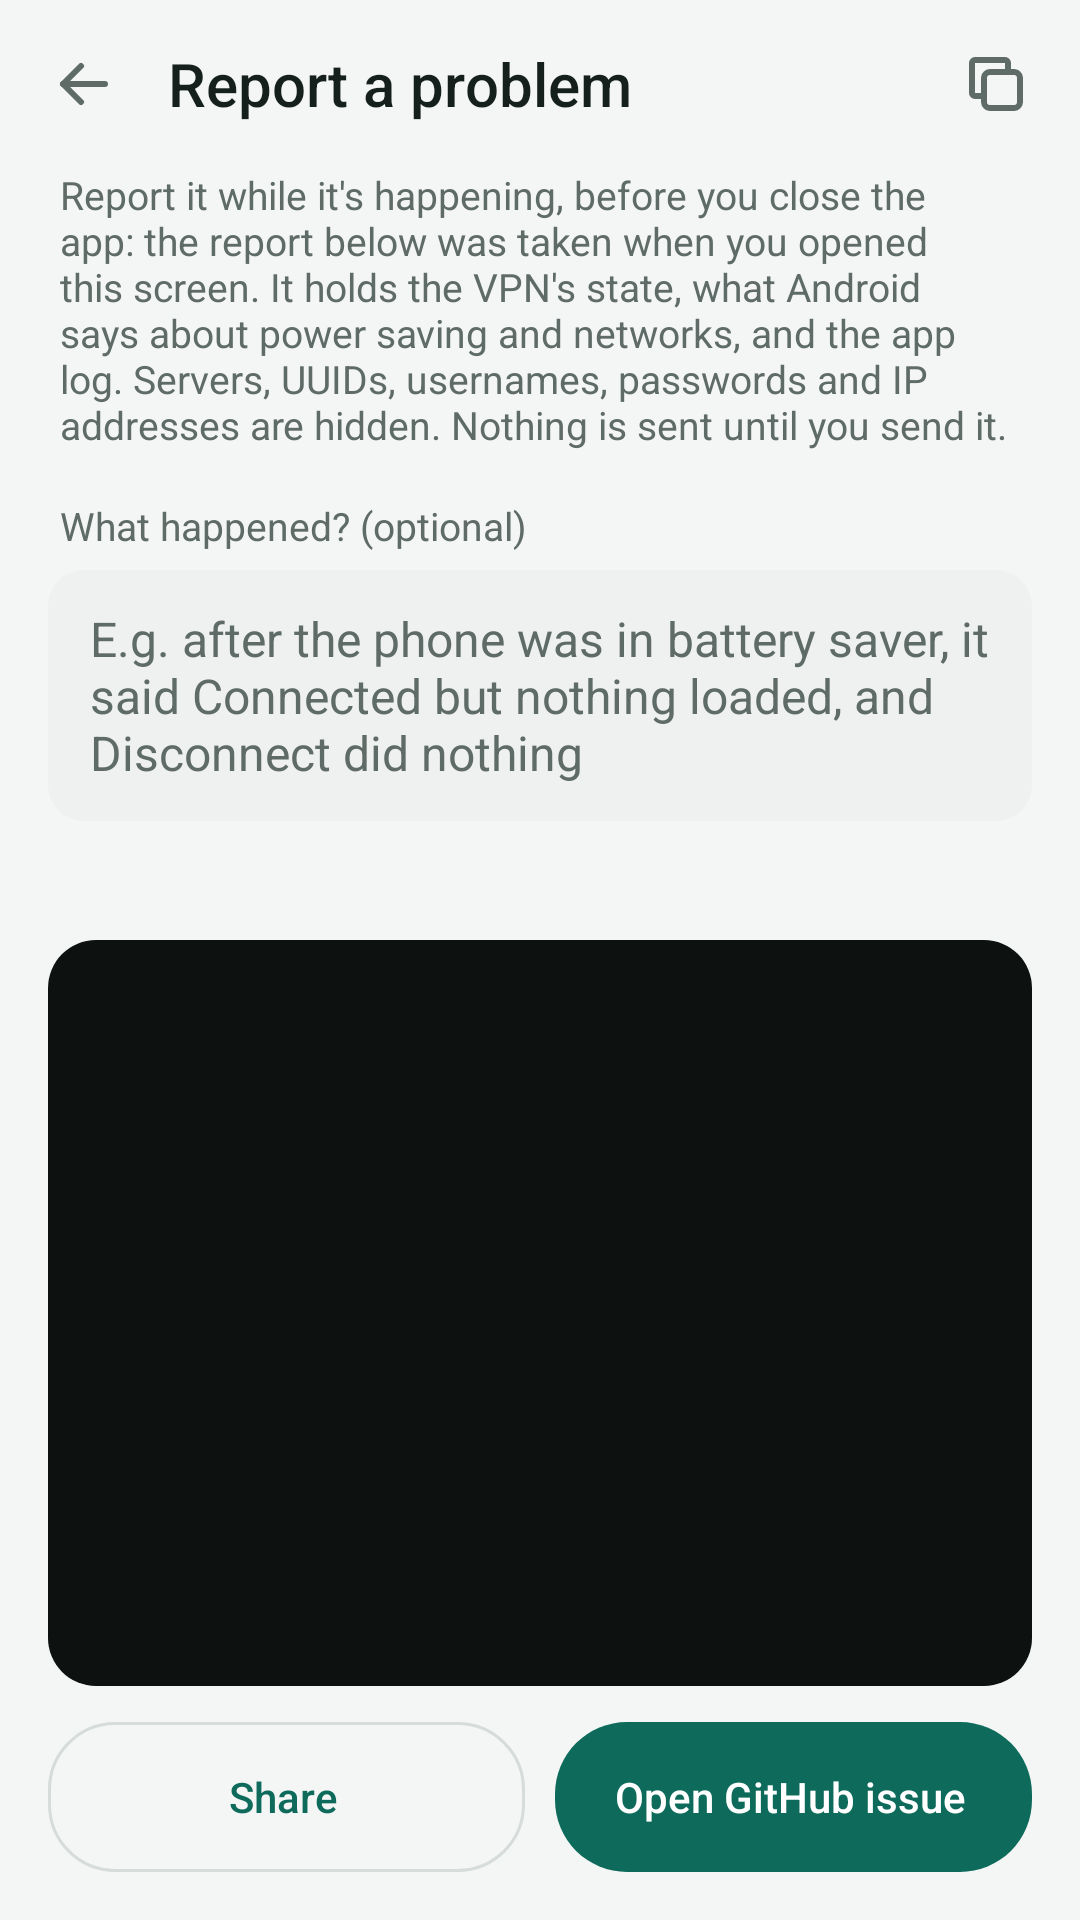

Where icons sit on this 1080×1920 app screen, as (x1=x1, y1=y1, x2=x2, y2=y2):
Back: (x1=60, y1=63, x2=108, y2=105)
Copy report: (x1=969, y1=57, x2=1023, y2=111)
